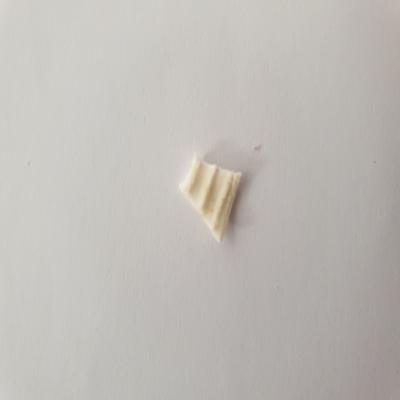plastic: (173, 151, 245, 247)
